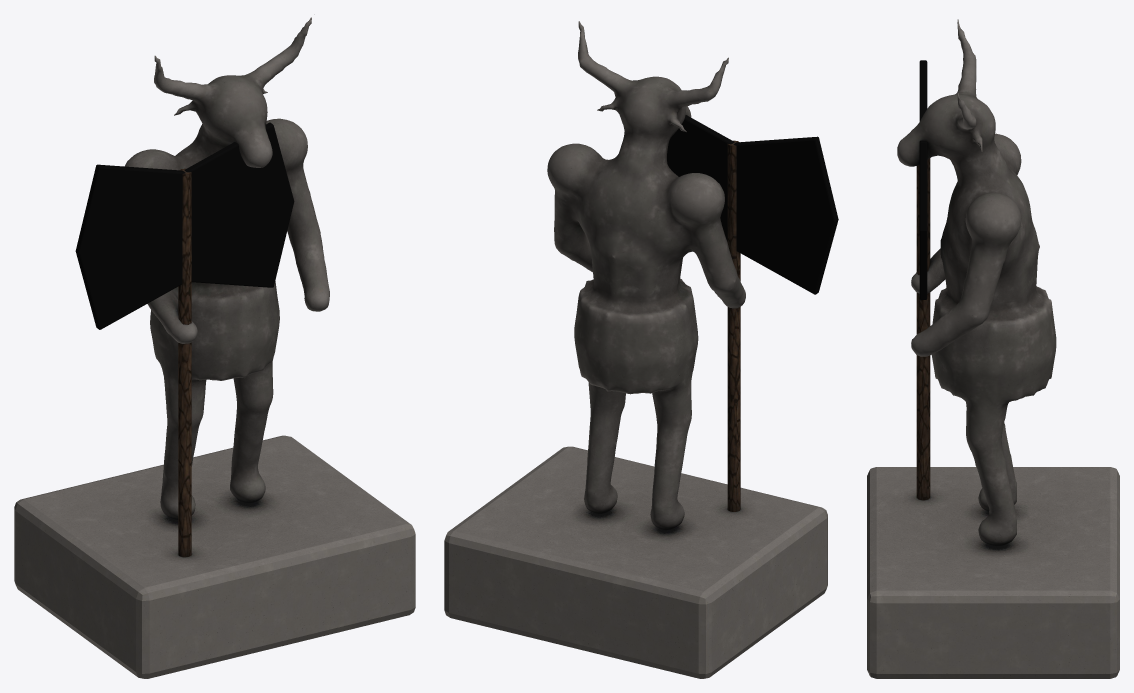
File: dg_estatua_minotauro.glb
3 views of the same model, side by side, from view 1: azimuth 30°, elevation 25°; view 2: azimuth 150°, elevation 25°; view 3: azimuth 270°, elevation 25° (orthographic). The views are drawn at different scales.
Visible parts, largest first — view 1: dg_estatua_minotauro_tronco; view 2: dg_estatua_minotauro_tronco; view 3: dg_estatua_minotauro_tronco.
Boxes of the visible parts, x1,y1,x2,y2 form: dg_estatua_minotauro_tronco: (14,17,415,678); dg_estatua_minotauro_tronco: (444,21,838,678); dg_estatua_minotauro_tronco: (867,19,1119,678).
Bounding box in the file's own units: 1.8 × 3.21 × 1.3.
Materials: 1 (1 with a texture image).
